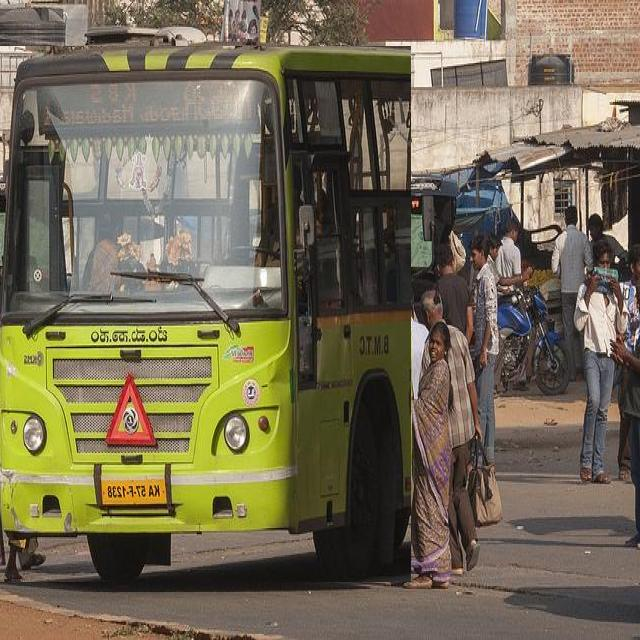bus: (0, 47, 411, 582)
